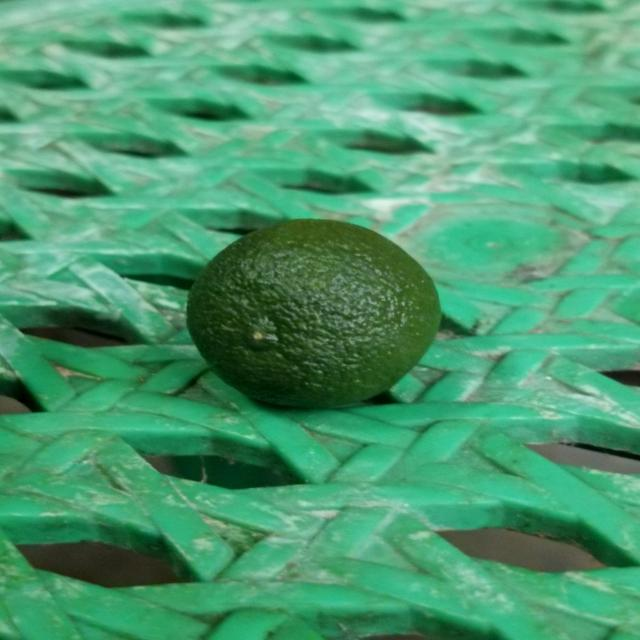heathy: (184, 215, 444, 408)
